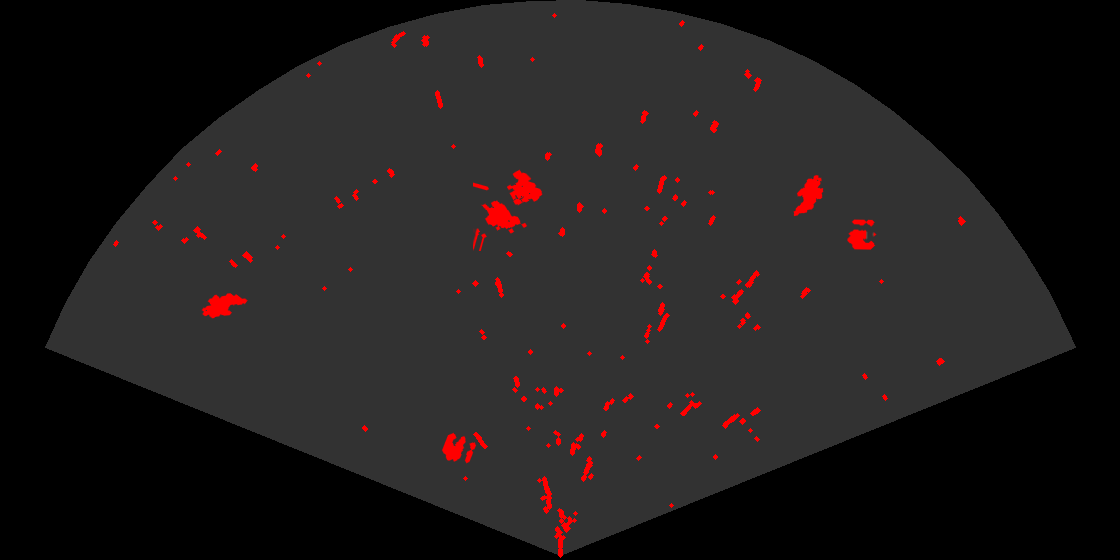AUV: (792, 173, 825, 218), (200, 292, 249, 320)
ball: (440, 431, 478, 465), (846, 218, 878, 251)
cage: (473, 168, 544, 251)
